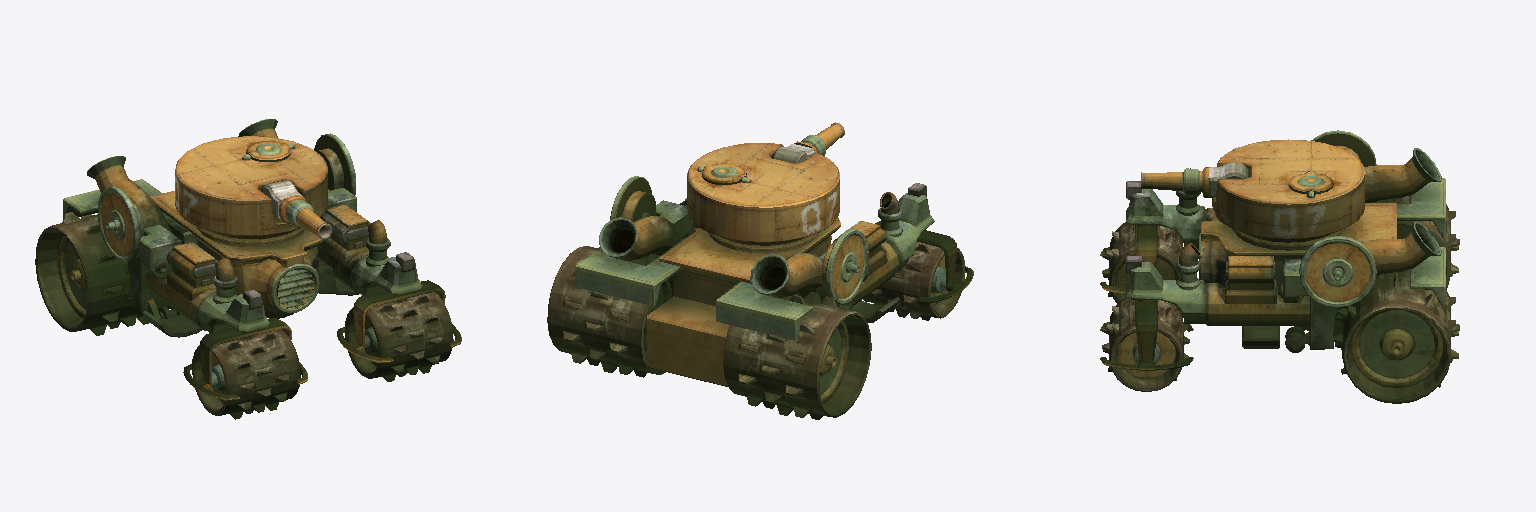
The picture shows the model from 3 angles: view 1: azimuth 30°, elevation 25°; view 2: azimuth 150°, elevation 25°; view 3: azimuth 270°, elevation 25°; orthographic projection.
Parts seen in each view (by area): view 1: r_engine_geo, turret_geo, r_back_wheel_geo, l_engine_geo, tank_geo, l_front_wheel_geo, r_front_wheel_geo, r_steer_geo, canon_geo, l_steer_geo, hatch_geo; view 2: r_engine_geo, r_back_wheel_geo, turret_geo, tank_geo, l_engine_geo, l_back_wheel_geo, r_front_wheel_geo, r_steer_geo, canon_geo, hatch_geo; view 3: l_engine_geo, turret_geo, l_back_wheel_geo, r_engine_geo, tank_geo, l_front_wheel_geo, r_front_wheel_geo, canon_geo, l_steer_geo, r_back_wheel_geo, r_steer_geo, hatch_geo.
Part boxes in pixels (left/top/right/bottom): r_engine_geo: left=63, top=156, right=269, bottom=332; turret_geo: left=175, top=136, right=327, bottom=246; r_back_wheel_geo: left=35, top=212, right=172, bottom=335; l_engine_geo: left=238, top=119, right=422, bottom=295; tank_geo: left=143, top=191, right=358, bottom=337; l_front_wheel_geo: left=345, top=292, right=453, bottom=381; r_front_wheel_geo: left=192, top=329, right=300, bottom=419; r_steer_geo: left=183, top=318, right=307, bottom=400; canon_geo: left=261, top=180, right=331, bottom=239; l_steer_geo: left=337, top=280, right=461, bottom=363; hatch_geo: left=246, top=141, right=290, bottom=161; r_engine_geo: left=716, top=183, right=934, bottom=340; r_back_wheel_geo: left=723, top=292, right=871, bottom=419; turret_geo: left=687, top=143, right=839, bottom=253; tank_geo: left=647, top=218, right=899, bottom=386; l_engine_geo: left=575, top=176, right=699, bottom=305; l_back_wheel_geo: left=547, top=246, right=672, bottom=377; r_front_wheel_geo: left=863, top=241, right=965, bottom=320; r_steer_geo: left=875, top=221, right=973, bottom=302; canon_geo: left=772, top=122, right=844, bottom=163; hatch_geo: left=702, top=164, right=746, bottom=184; l_engine_geo: left=1126, top=222, right=1445, bottom=352; turret_geo: left=1212, top=139, right=1364, bottom=250; l_back_wheel_geo: left=1334, top=269, right=1459, bottom=403; r_engine_geo: left=1126, top=130, right=1445, bottom=249; tank_geo: left=1199, top=203, right=1396, bottom=348; l_front_wheel_geo: left=1102, top=297, right=1189, bottom=391; r_front_wheel_geo: left=1102, top=222, right=1182, bottom=303; canon_geo: left=1141, top=162, right=1248, bottom=197; l_steer_geo: left=1100, top=300, right=1193, bottom=370; r_back_wheel_geo: left=1372, top=196, right=1459, bottom=288; r_steer_geo: left=1100, top=225, right=1183, bottom=294; hatch_geo: left=1289, top=171, right=1333, bottom=193.
Bounding box in the file's own units: 239 × 152 × 275.
2 materials, 2 textured.